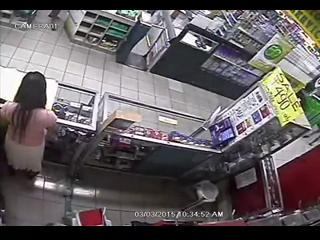Normal: (0, 72, 58, 184)
